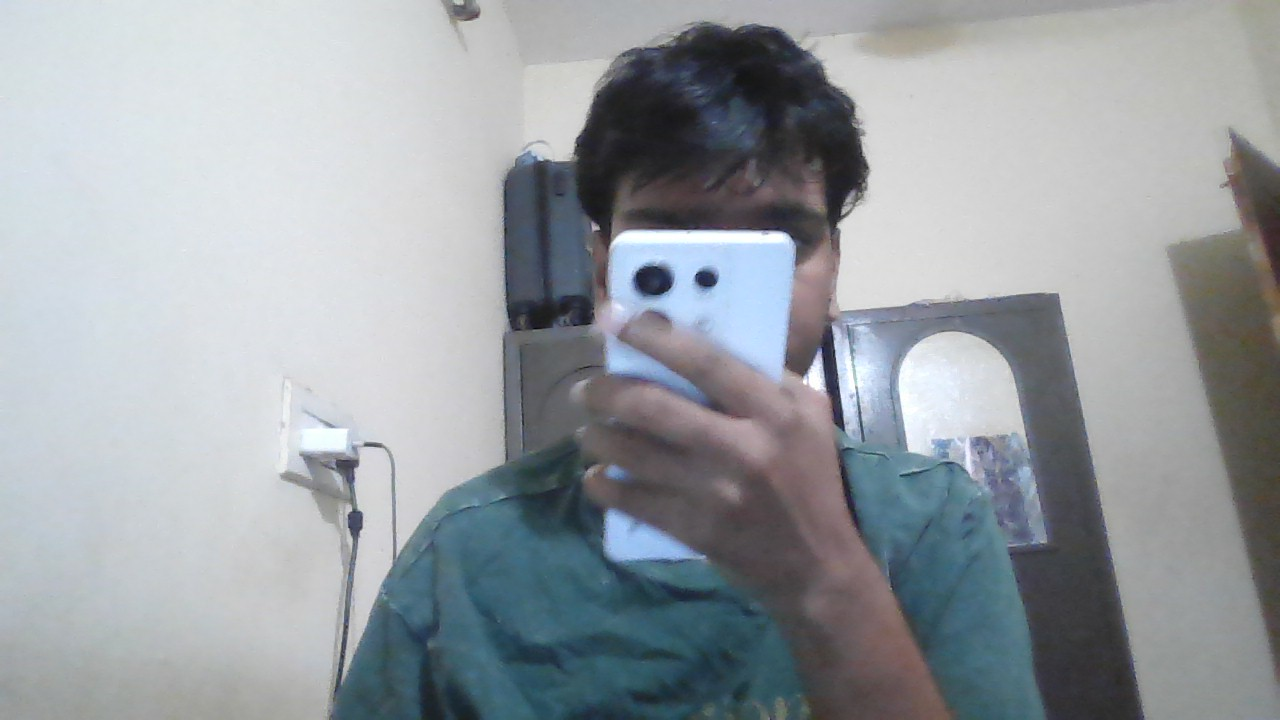phone: (606, 229, 799, 333)
